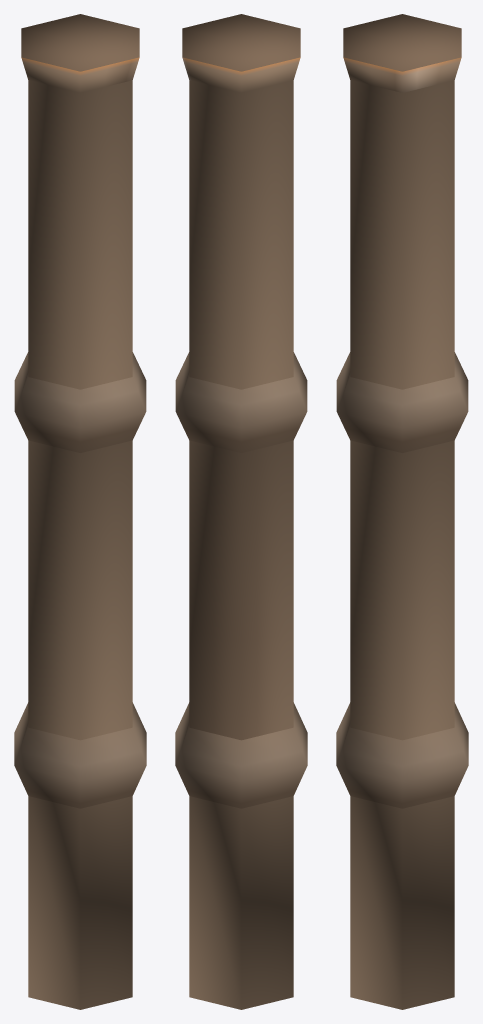
File: bamboo.fbx
3 views of the same model, side by side, from view 1: azimuth 30°, elevation 25°; view 2: azimuth 210°, elevation 25°; view 3: azimuth 330°, elevation 25° (orthographic).
Visible parts, largest first — view 1: itm_bamboo; view 2: itm_bamboo; view 3: itm_bamboo.
Part boxes in pixels (x1=…): itm_bamboo: x1=14, y1=14, x2=146, y2=1009; itm_bamboo: x1=175, y1=14, x2=307, y2=1009; itm_bamboo: x1=336, y1=14, x2=468, y2=1009.
Size of the model in its own units: 73.14 by 496 by 63.34.
1 material, 1 textured.
